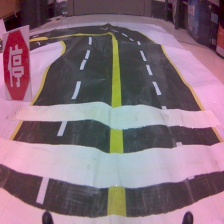stop: (2, 24, 35, 103)
